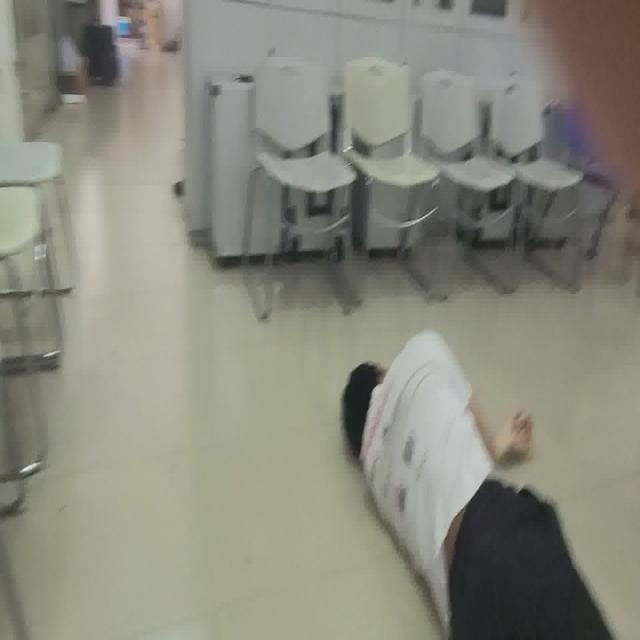Fall: (345, 331, 589, 640)
